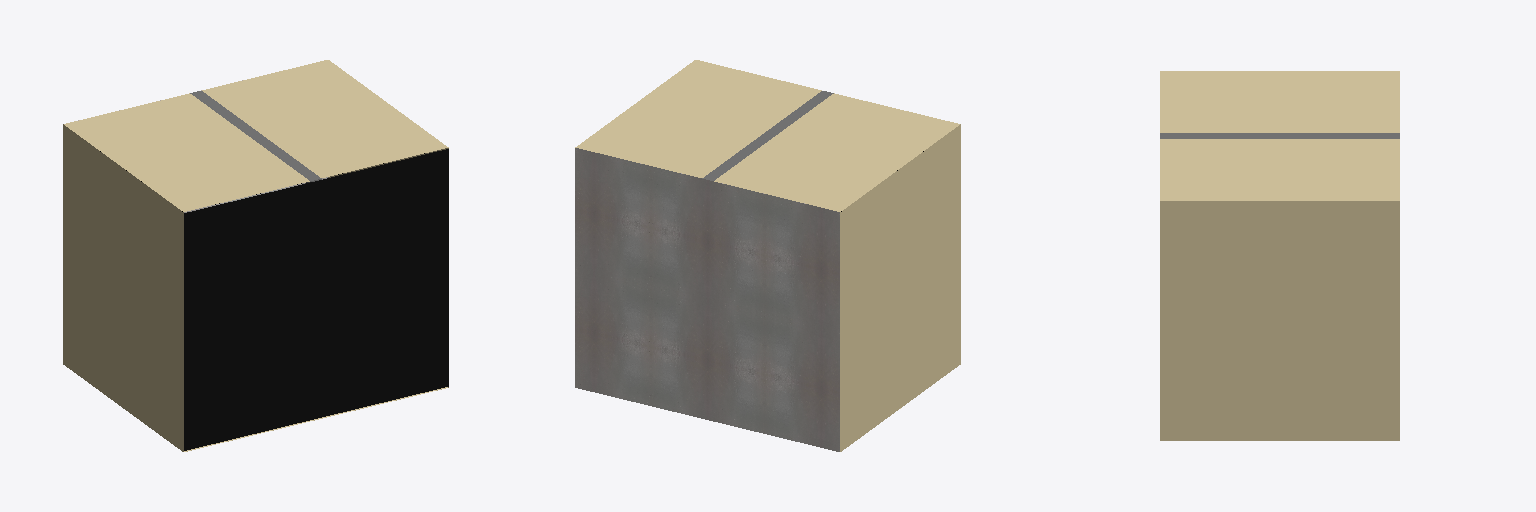
3 renders of one model, left to right at view 1: azimuth 30°, elevation 25°; view 2: azimuth 150°, elevation 25°; view 3: azimuth 270°, elevation 25°, orthographic.
Size of the model in its own units: 7000 by 6060 by 5502.
Materials: 7 (1 with a texture image).